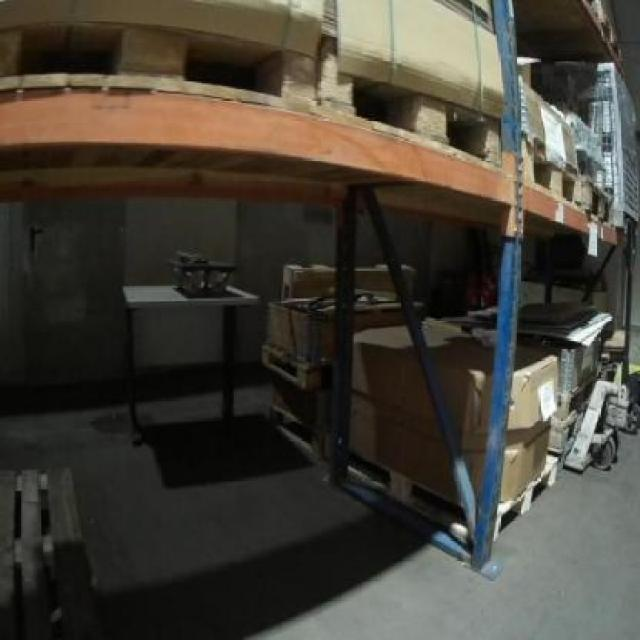pallet: (0, 0, 315, 123), (327, 48, 501, 170), (0, 443, 83, 640), (341, 441, 486, 549), (256, 345, 326, 452), (532, 142, 592, 212)
